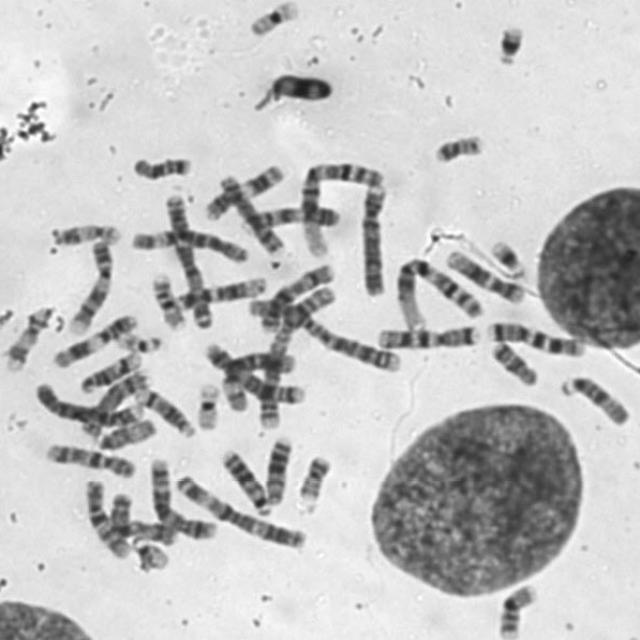A1: (295, 156, 387, 260), (390, 252, 484, 330)
A2: (252, 282, 341, 431), (245, 291, 403, 373)
A3: (170, 471, 308, 551), (161, 194, 216, 330)
B4: (30, 378, 145, 428), (355, 181, 389, 298)
B5: (202, 341, 306, 407), (146, 455, 218, 541)
C10: (80, 474, 132, 560), (41, 439, 138, 480)
C11: (48, 310, 140, 370), (201, 161, 285, 222)
C12: (443, 246, 526, 305), (172, 273, 268, 312)
C6: (126, 223, 250, 266), (219, 350, 295, 413)
C7: (484, 318, 586, 358), (373, 321, 480, 351)
C8: (214, 172, 286, 256), (76, 366, 152, 439)
C9: (64, 235, 116, 336), (234, 201, 342, 235)
D13: (218, 446, 272, 516), (259, 432, 294, 505)
D14: (133, 385, 196, 439), (76, 347, 145, 394)
D15: (556, 371, 632, 428), (91, 415, 158, 451)
E16: (494, 581, 539, 638), (149, 270, 187, 331)
E17: (1, 302, 54, 373), (48, 218, 124, 248)
E18: (488, 338, 539, 388), (128, 152, 193, 182)
F19: (247, 0, 304, 41), (193, 381, 223, 432)
F20: (294, 452, 334, 506), (429, 129, 488, 165)
G21: (487, 234, 527, 280), (492, 21, 526, 68)
G22: (130, 536, 170, 572), (114, 328, 163, 354)
X: (254, 258, 338, 336), (106, 490, 179, 548)
